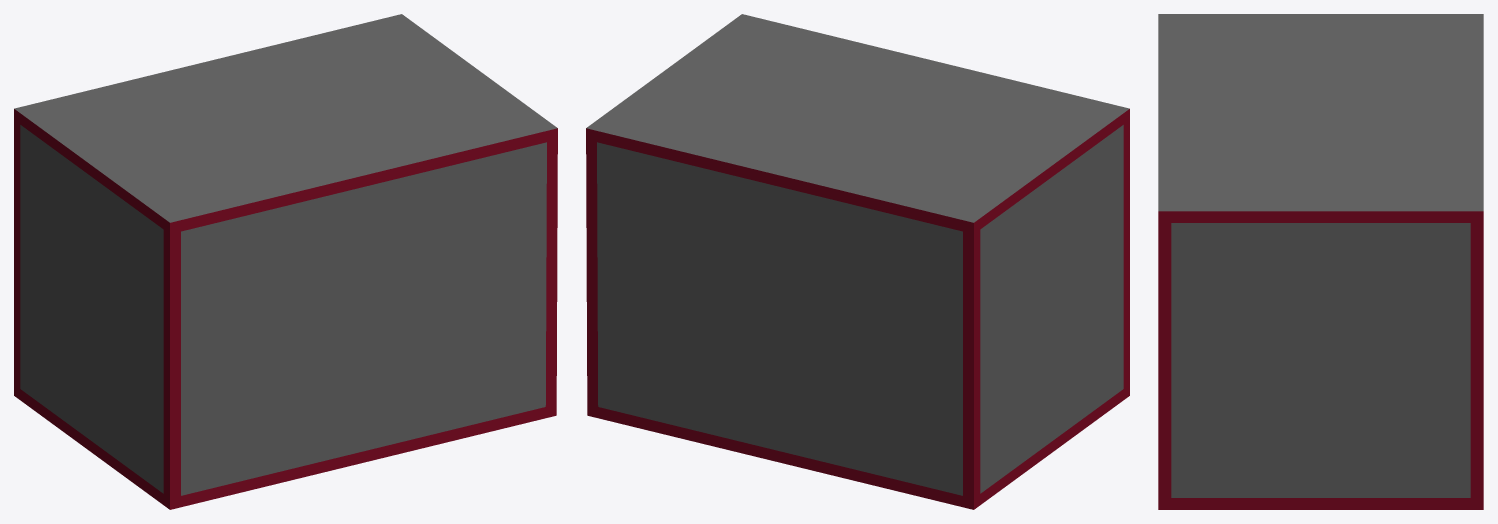
The model's file is topukalt.fbx.
The picture shows the model from 3 angles, left to right: view 1: azimuth 30°, elevation 25°; view 2: azimuth 150°, elevation 25°; view 3: azimuth 270°, elevation 25°; orthographic projection. The views are drawn at different scales.
Parts seen in each view (by area): view 1: Plane.001; view 2: Plane.001; view 3: Plane.001.
Part boxes in pixels (box(x1,y1,x2,y2)): Plane.001: box(14, 14, 557, 509); Plane.001: box(586, 14, 1129, 509); Plane.001: box(1158, 14, 1483, 509).
Size of the model in its own units: 71.43 by 50.53 by 49.77.
